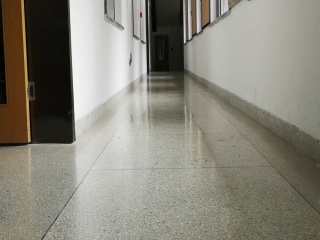room: (1, 2, 74, 147)
